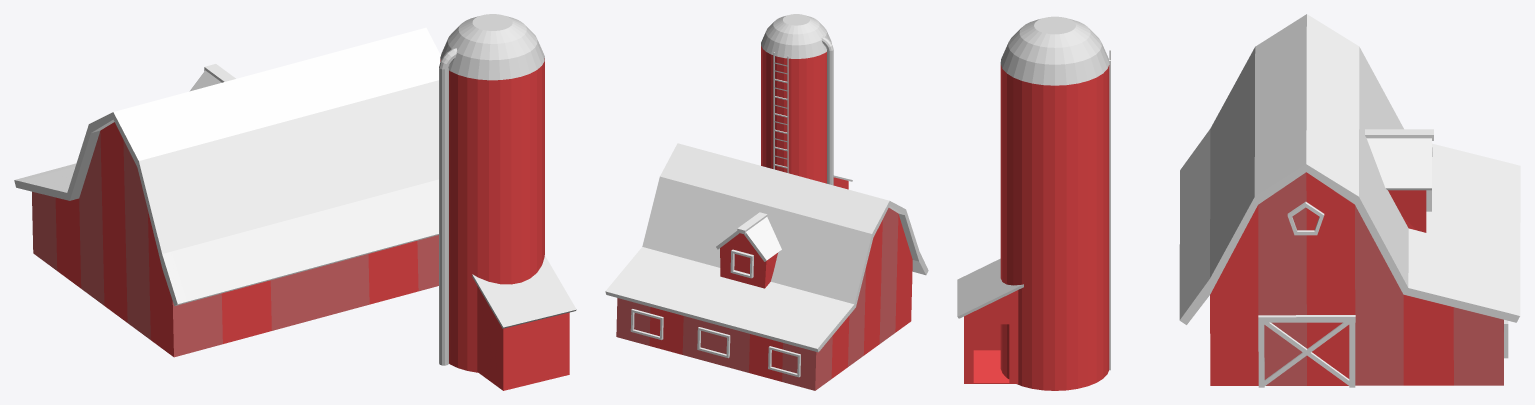
Rendered from farm.gltf.
The picture shows the model from 3 angles, left to right: view 1: azimuth 30°, elevation 25°; view 2: azimuth 150°, elevation 25°; view 3: azimuth 270°, elevation 25°; orthographic projection. The views are drawn at different scales.
Visible parts, largest first — view 1: Object_29, Object_32, Object_15, Object_11; view 2: Object_29, Object_32, Object_15, Object_11; view 3: Object_29, Object_32, Object_15, Object_11.
Part boxes in pixels (x1,y1,x2,y2): Object_29: [14, 27, 440, 306]; Object_32: [55, 58, 569, 390]; Object_15: [32, 131, 438, 357]; Object_11: [439, 14, 576, 365]; Object_29: [605, 52, 928, 377]; Object_32: [649, 46, 912, 381]; Object_15: [616, 208, 898, 390]; Object_11: [761, 14, 852, 185]; Object_29: [1109, 14, 1520, 387]; Object_32: [964, 65, 1453, 390]; Object_15: [1258, 172, 1503, 385]; Object_11: [957, 16, 1109, 318].
Bounding box in the file's own units: 97.61 × 97.21 × 144.
